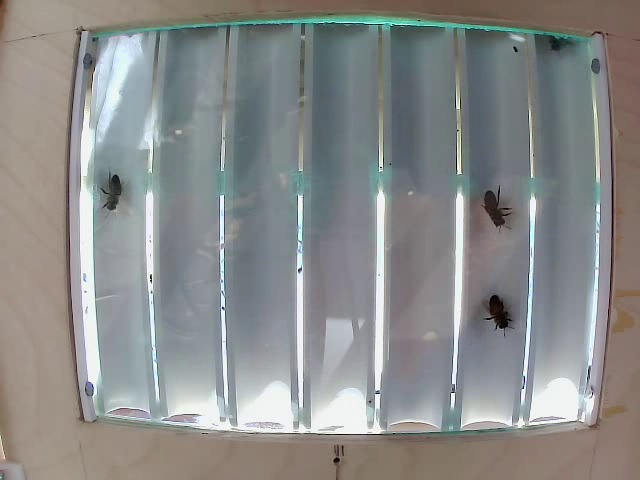bee: (97, 178, 132, 213), (486, 183, 508, 225), (488, 296, 507, 338)
